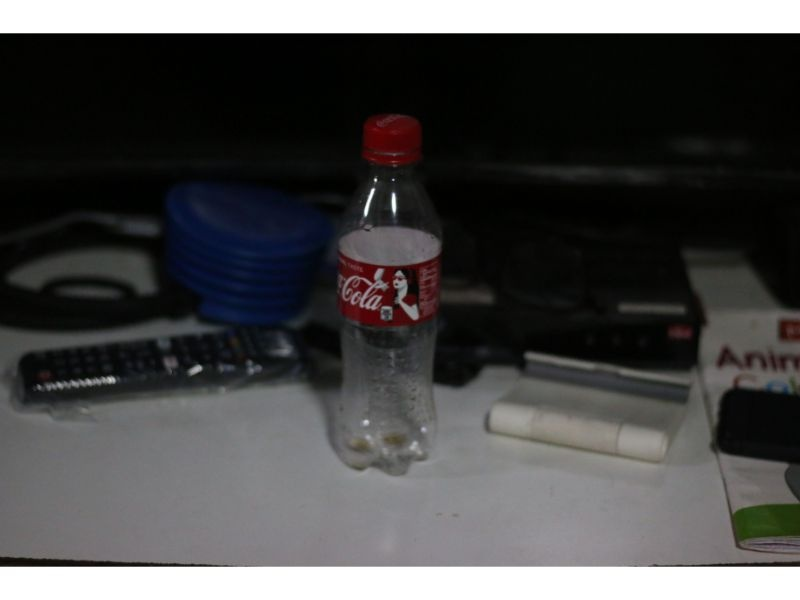PET #1: (330, 109, 444, 486)
